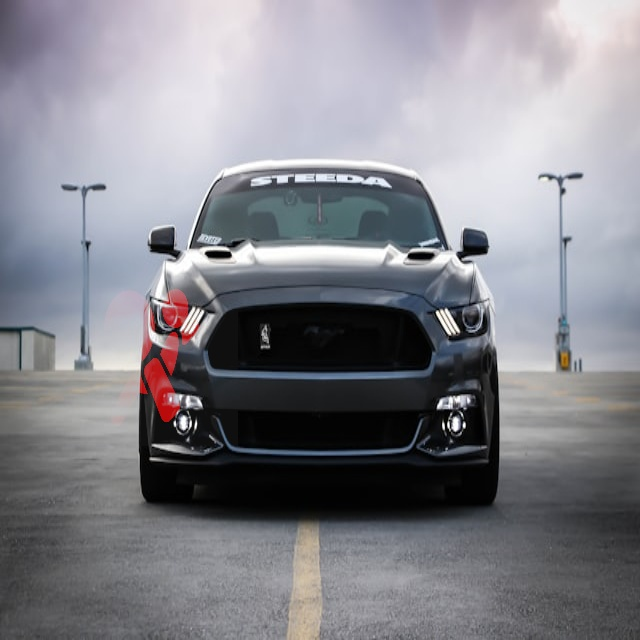symbol: (53, 261, 238, 446)
